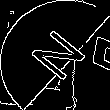N_SE: (20, 23, 90, 87)
